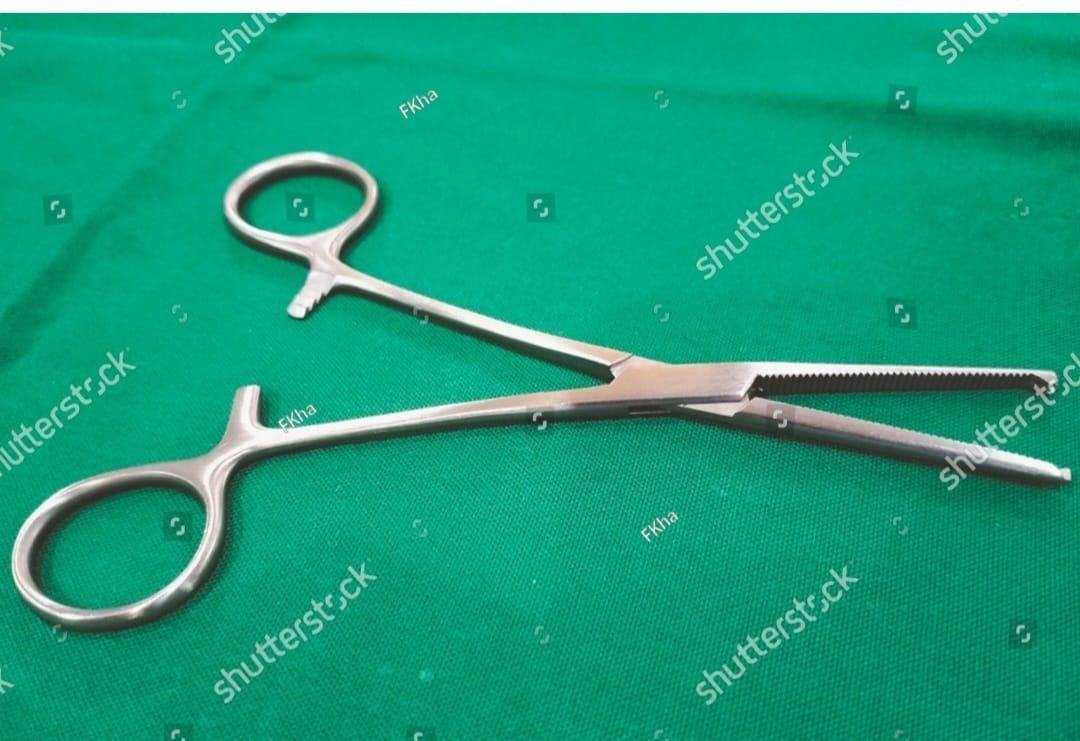Kocher Forceps: (6, 138, 1080, 634)
